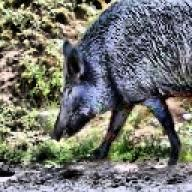boar: (48, 0, 192, 166)
